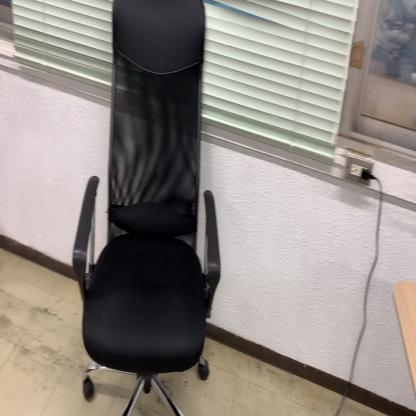chair: (71, 0, 222, 415)
